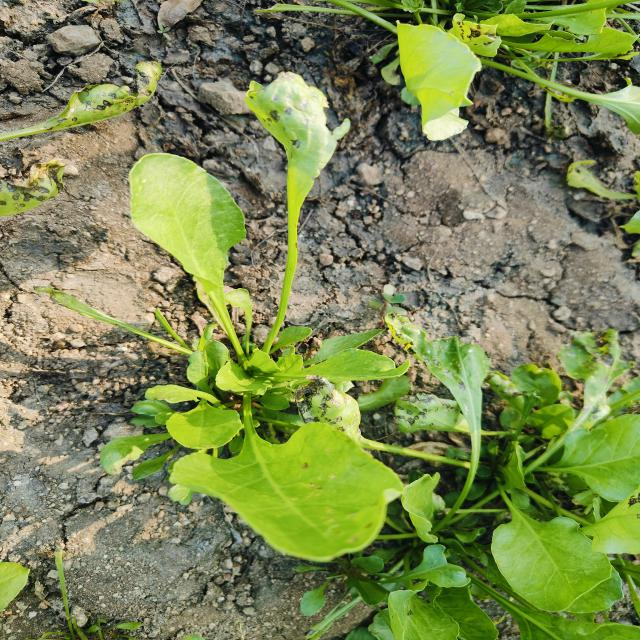half-leaf: (379, 336, 520, 552), (524, 417, 640, 510)
leaves: (193, 381, 413, 583), (102, 116, 260, 396), (222, 45, 356, 374), (358, 22, 526, 152), (489, 495, 633, 622), (129, 370, 256, 464)
